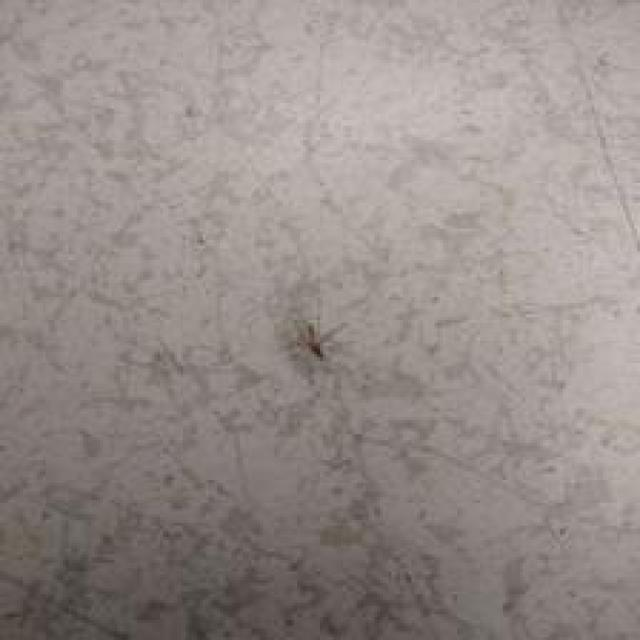Culex: (302, 318, 327, 358)
